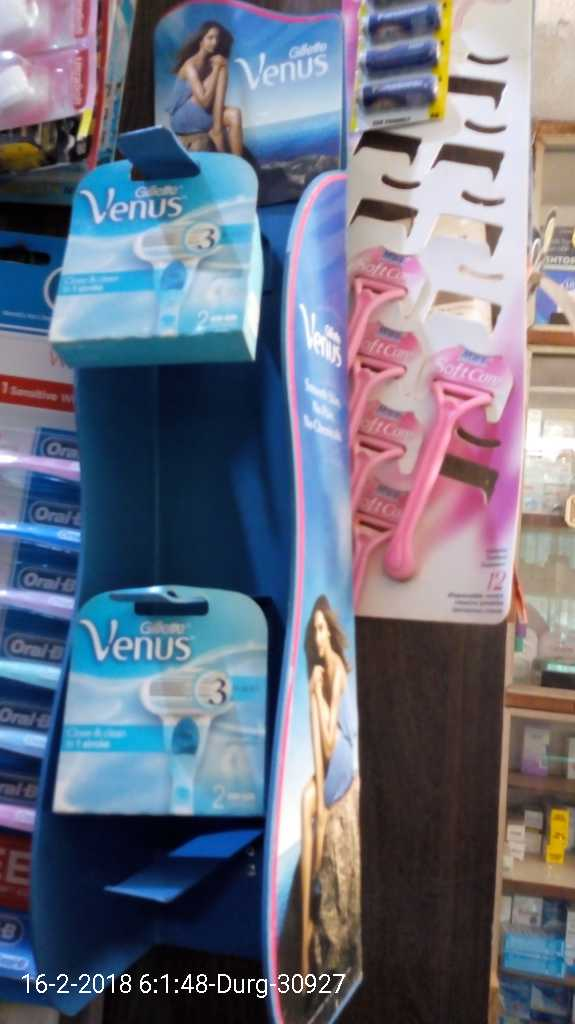venus: (58, 586, 272, 819), (52, 147, 267, 375)
